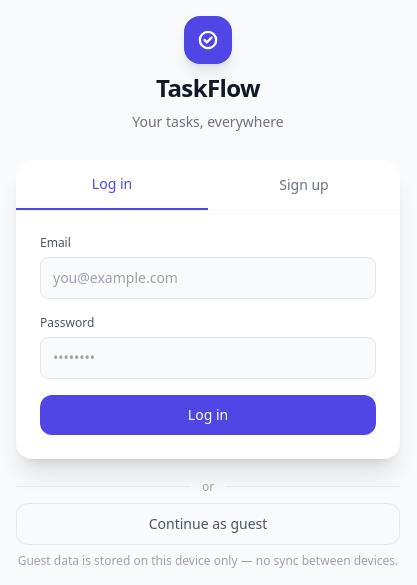
AuthScreen – tabs › shows "Create account" submit button after switching to Sign up
This screenshot has width=417, height=585.
Click the button "Sign up" at (304, 184), box [208,160,400,210]
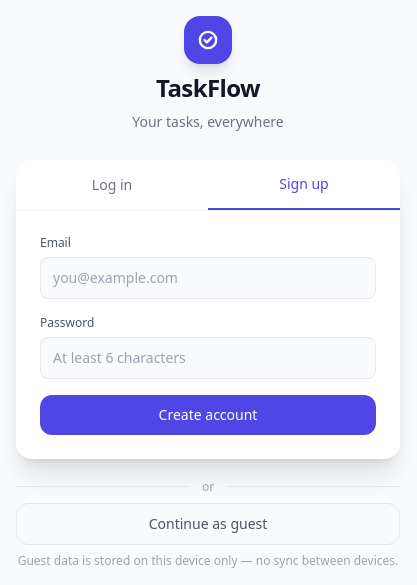
Expected: the button "Create account" is shown, [40,394,376,434]
